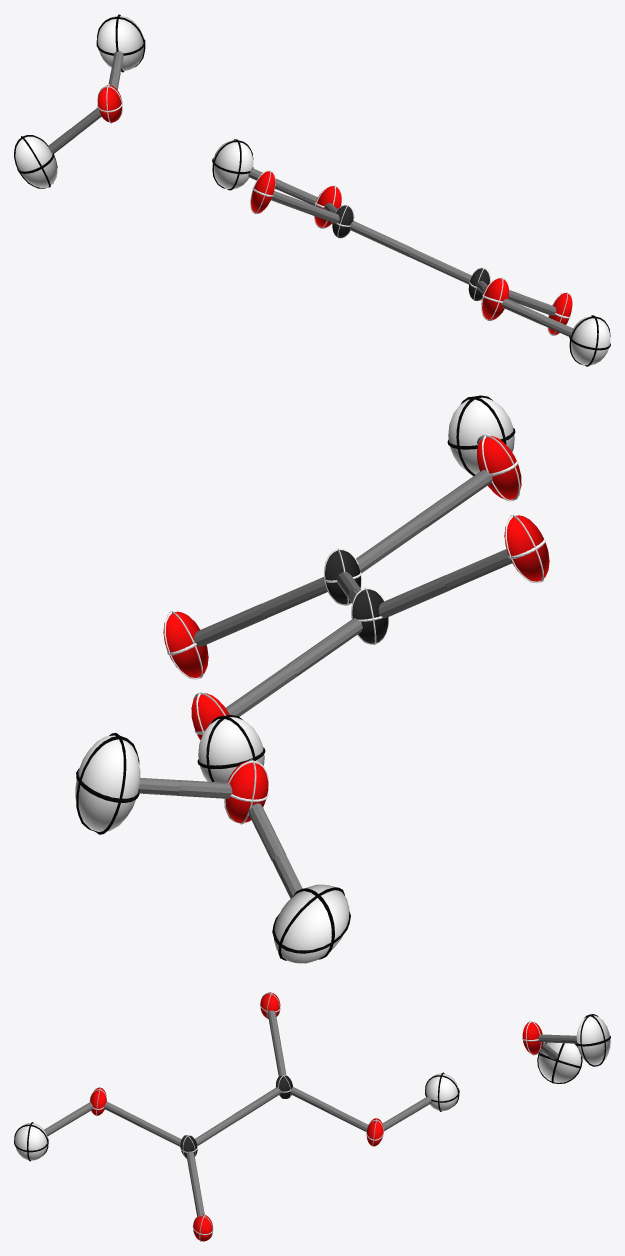
File: OxyH.obj
The picture shows the model from 3 angles, top to bottom: view 1: azimuth 30°, elevation 25°; view 2: azimuth 150°, elevation 25°; view 3: azimuth 270°, elevation 25°; orthographic projection. The views are drawn at different scales.
Visible parts, largest first — view 1: H2, H3, object 9, H1, object 8, O2, O3, object 25, object 24, O1, object 10, C1; view 2: H2, H3, H1, object 9, O2, object 10, object 8, O3, C1, object 27, C1=O1, object 11 (+9 smaller); view 3: H3, H2, object 9, H1, O3, object 10, object 25, object 24, O1, O2, object 8, C1=O1 (+2 smaller).
Part boxes in pixels (bbox=[...]): H2: bbox=[96, 14, 145, 72]; H3: bbox=[14, 135, 57, 188]; object 9: bbox=[569, 315, 610, 366]; H1: bbox=[212, 139, 253, 190]; object 8: bbox=[481, 277, 509, 320]; O2: bbox=[250, 170, 275, 213]; O3: bbox=[97, 84, 122, 123]; object 25: bbox=[349, 221, 412, 256]; object 24: bbox=[409, 248, 471, 284]; O1: bbox=[314, 185, 341, 228]; object 10: bbox=[547, 291, 572, 335]; C1: bbox=[332, 204, 354, 238]; H2: bbox=[75, 733, 140, 834]; H3: bbox=[272, 884, 350, 963]; H1: bbox=[197, 715, 265, 782]; object 9: bbox=[447, 395, 515, 475]; O2: bbox=[504, 513, 549, 583]; object 10: bbox=[163, 610, 208, 679]; object 8: bbox=[477, 434, 521, 501]; O3: bbox=[224, 759, 268, 824]; C1: bbox=[351, 587, 389, 644]; object 27: bbox=[416, 470, 492, 528]; C1=O1: bbox=[288, 618, 362, 676]; object 11: bbox=[323, 548, 361, 605]; H3: bbox=[537, 1042, 582, 1083]; H2: bbox=[576, 1014, 610, 1066]; object 9: bbox=[14, 1122, 48, 1161]; H1: bbox=[425, 1072, 459, 1111]; O3: bbox=[522, 1021, 543, 1055]; object 10: bbox=[192, 1214, 213, 1241]; object 25: bbox=[235, 1087, 281, 1119]; object 24: bbox=[195, 1113, 239, 1145]; O1: bbox=[366, 1118, 383, 1146]; O2: bbox=[260, 992, 280, 1019]; object 8: bbox=[89, 1087, 106, 1116]; C1=O1: bbox=[290, 1087, 331, 1112].
Size of the model in its own units: 3.83 by 2.13 by 7.47.
